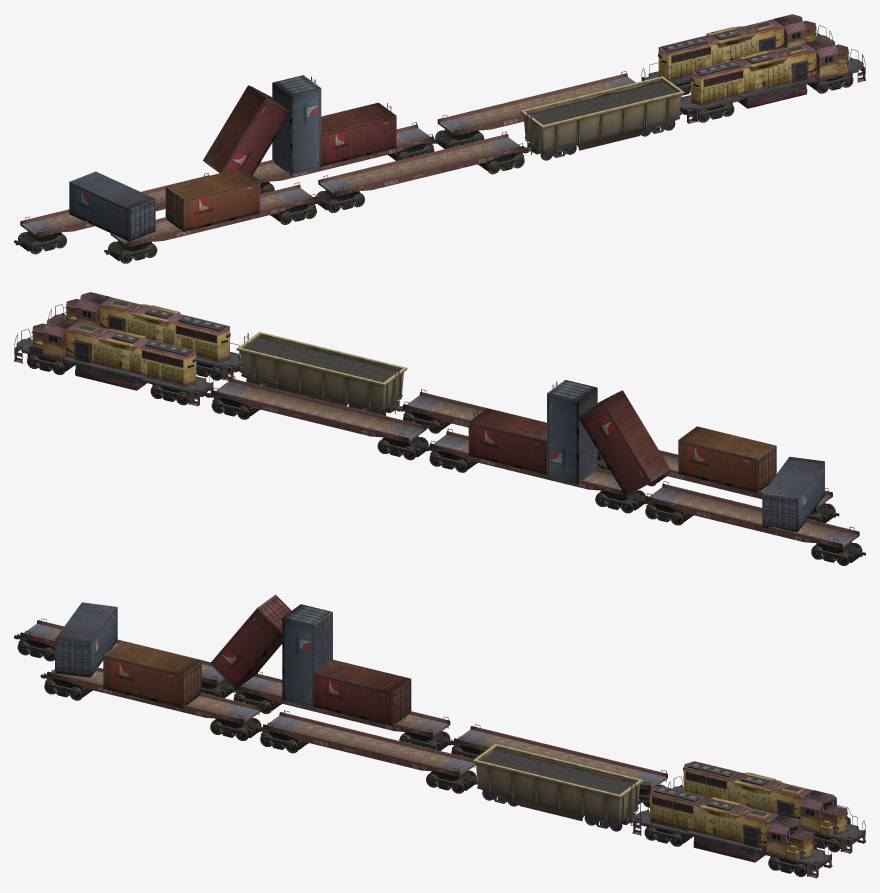
File: passthrough.obj
The picture shows the model from 3 angles, top to bottom: view 1: azimuth 30°, elevation 25°; view 2: azimuth 150°, elevation 25°; view 3: azimuth 330°, elevation 25°; orthographic projection. The views are drawn at different scales.
Parts seen in each view (by area): view 1: desel.001_models/props/de_train/diesel.001, ore_models/props_vehicles/train_orecar_reference, flat.001_models/props/de_train/FlatCar_REF.001, desel_models/props/de_train/diesel, prop_static_15.002_models/props/de_port/cargo_container01_refere, prop_static_15.003_models/props/de_port/cargo_container01_refere, prop_static_15.004_models/props/de_port/cargo_container01_refere, prop_static_15.001_models/props/de_port/cargo_container01_refere, flat_models/props/de_train/FlatCar_REF, prop_static_15_models/props/de_port/cargo_container01_reference, flat.003_models/props/de_train/FlatCar_REF.001, flat.004_models/props/de_train/FlatCar_REF.002 (+1 smaller); view 2: desel_models/props/de_train/diesel, ore_models/props_vehicles/train_orecar_reference, desel.001_models/props/de_train/diesel.001, flat_models/props/de_train/FlatCar_REF, flat.004_models/props/de_train/FlatCar_REF.002, prop_static_15.003_models/props/de_port/cargo_container01_refere, prop_static_15.002_models/props/de_port/cargo_container01_refere, prop_static_15.001_models/props/de_port/cargo_container01_refere, prop_static_15_models/props/de_port/cargo_container01_reference, prop_static_15.004_models/props/de_port/cargo_container01_refere, flat.002_models/props/de_train/FlatCar_REF.002, flat.001_models/props/de_train/FlatCar_REF.001 (+1 smaller); view 3: desel.001_models/props/de_train/diesel.001, ore_models/props_vehicles/train_orecar_reference, desel_models/props/de_train/diesel, flat.001_models/props/de_train/FlatCar_REF.001, prop_static_15.002_models/props/de_port/cargo_container01_refere, prop_static_15_models/props/de_port/cargo_container01_reference, prop_static_15.001_models/props/de_port/cargo_container01_refere, flat.003_models/props/de_train/FlatCar_REF.001, prop_static_15.003_models/props/de_port/cargo_container01_refere, prop_static_15.004_models/props/de_port/cargo_container01_refere, flat_models/props/de_train/FlatCar_REF, flat.002_models/props/de_train/FlatCar_REF.002 (+1 smaller).
Boxes of the visible parts, x1,y1,x2,y2 form: desel.001_models/props/de_train/diesel.001: [680, 38, 865, 123]; ore_models/props_vehicles/train_orecar_reference: [520, 76, 684, 160]; flat.001_models/props/de_train/FlatCar_REF.001: [314, 131, 528, 212]; desel_models/props/de_train/diesel: [641, 14, 832, 95]; prop_static_15.002_models/props/de_port/cargo_container01_refere: [165, 168, 260, 231]; prop_static_15.003_models/props/de_port/cargo_container01_refere: [203, 85, 290, 175]; prop_static_15.004_models/props/de_port/cargo_container01_refere: [69, 171, 155, 241]; prop_static_15.001_models/props/de_port/cargo_container01_refere: [272, 75, 321, 175]; flat_models/props/de_train/FlatCar_REF: [433, 71, 635, 148]; prop_static_15_models/props/de_port/cargo_container01_reference: [320, 102, 396, 166]; flat.003_models/props/de_train/FlatCar_REF.001: [104, 182, 320, 263]; flat.004_models/props/de_train/FlatCar_REF.002: [14, 173, 209, 254]; desel_models/props/de_train/diesel: [14, 316, 213, 406]; ore_models/props_vehicles/train_orecar_reference: [236, 332, 407, 415]; desel.001_models/props/de_train/diesel.001: [48, 292, 241, 380]; flat_models/props/de_train/FlatCar_REF: [209, 375, 429, 460]; flat.004_models/props/de_train/FlatCar_REF.002: [641, 481, 865, 565]; prop_static_15.003_models/props/de_port/cargo_container01_refere: [578, 390, 669, 495]; prop_static_15.002_models/props/de_port/cargo_container01_refere: [678, 426, 776, 492]; prop_static_15.001_models/props/de_port/cargo_container01_refere: [547, 380, 597, 484]; prop_static_15_models/props/de_port/cargo_container01_reference: [468, 408, 546, 474]; prop_static_15.004_models/props/de_port/cargo_container01_refere: [762, 456, 824, 531]; flat.002_models/props/de_train/FlatCar_REF.002: [426, 428, 646, 513]; flat.001_models/props/de_train/FlatCar_REF.001: [400, 389, 609, 470]; desel.001_models/props/de_train/diesel.001: [632, 786, 832, 878]; ore_models/props_vehicles/train_orecar_reference: [472, 744, 643, 831]; desel_models/props/de_train/diesel: [668, 761, 865, 853]; flat.001_models/props/de_train/FlatCar_REF.001: [256, 710, 477, 793]; prop_static_15.002_models/props/de_port/cargo_container01_refere: [103, 641, 201, 707]; prop_static_15_models/props/de_port/cargo_container01_reference: [313, 659, 411, 725]; prop_static_15.001_models/props/de_port/cargo_container01_refere: [282, 604, 332, 708]; flat.003_models/props/de_train/FlatCar_REF.001: [40, 667, 261, 740]; prop_static_15.003_models/props/de_port/cargo_container01_refere: [210, 594, 291, 689]; prop_static_15.004_models/props/de_port/cargo_container01_refere: [55, 602, 117, 677]; flat_models/props/de_train/FlatCar_REF: [447, 724, 667, 807]; flat.002_models/props/de_train/FlatCar_REF.002: [230, 671, 450, 750].
Size of the model in its own units: 62.64 by 7.56 by 7.
Materials: 8 (8 with a texture image).
